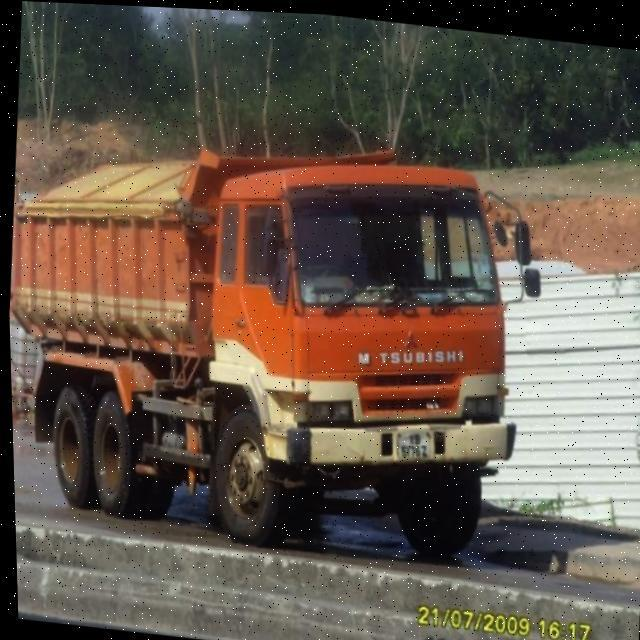truck: (2, 105, 542, 571)
